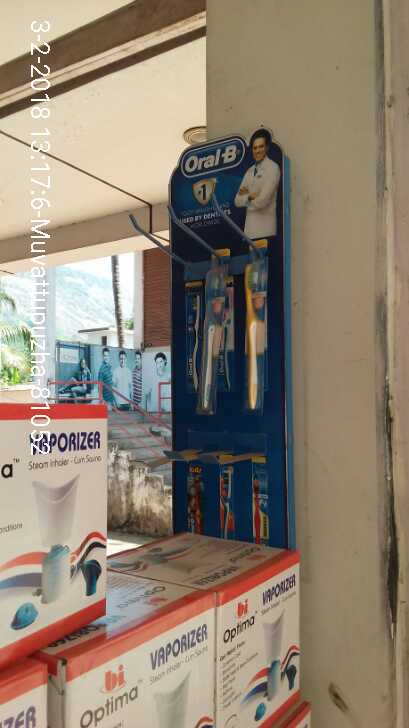oralb: (238, 262, 281, 413), (183, 264, 226, 413)
